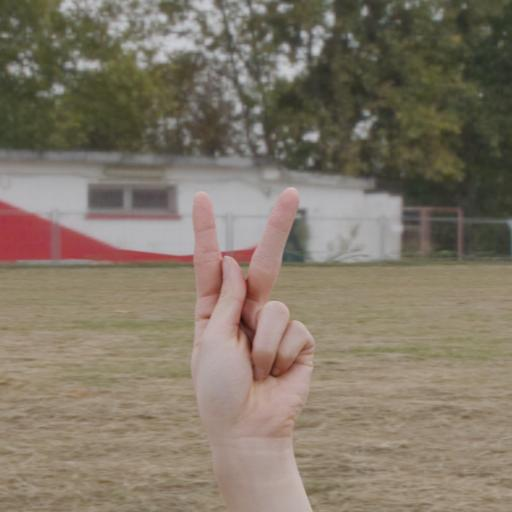K: (188, 180, 316, 429)
